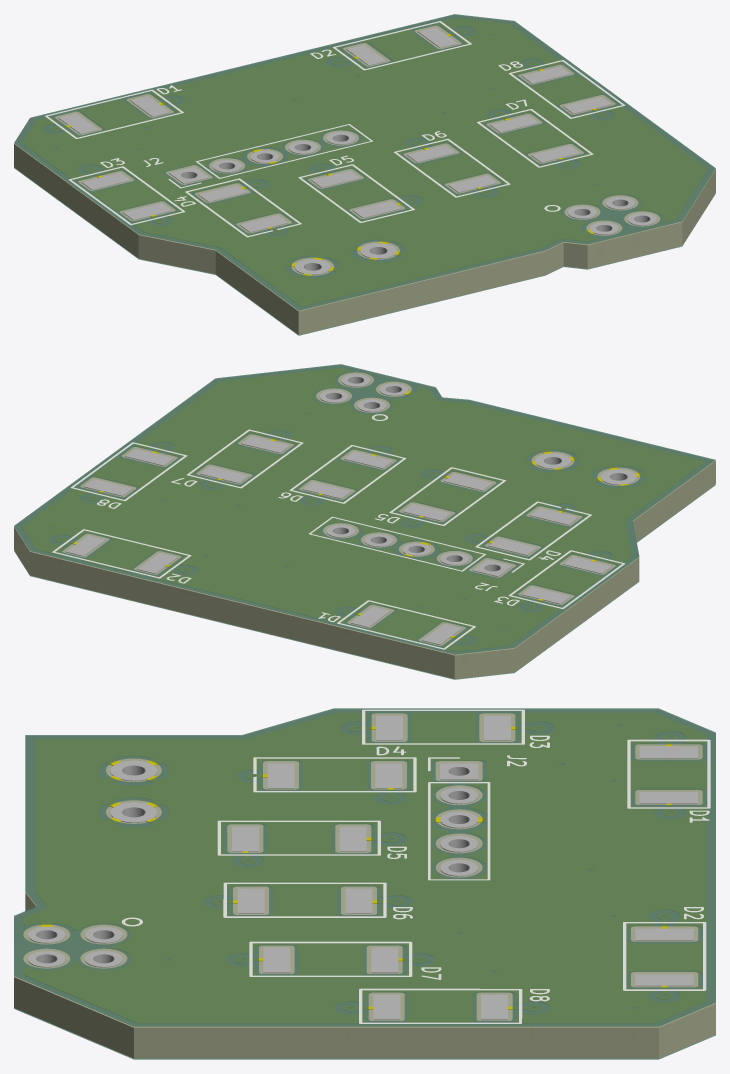
The model's file is mad-cat-backpack.glb.
The picture shows the model from 3 angles, top to bottom: view 1: azimuth 30°, elevation 25°; view 2: azimuth 150°, elevation 25°; view 3: azimuth 270°, elevation 25°; orthographic projection. The views are drawn at different scales.
Visible parts, largest first — view 1: =>[0:1:1:7], =>[0:1:1:2], =>[0:1:1:9], =>[0:1:1:5]; view 2: =>[0:1:1:7], =>[0:1:1:2], =>[0:1:1:9], =>[0:1:1:5]; view 3: =>[0:1:1:7], =>[0:1:1:2], =>[0:1:1:9], =>[0:1:1:5].
Boxes of the visible parts, box(x1,y1,x2,y2) form: =>[0:1:1:7]: box(14, 14, 715, 335); =>[0:1:1:2]: box(23, 18, 707, 306); =>[0:1:1:9]: box(14, 15, 715, 334); =>[0:1:1:5]: box(45, 21, 625, 237); =>[0:1:1:7]: box(14, 364, 715, 679); =>[0:1:1:2]: box(22, 368, 704, 651); =>[0:1:1:9]: box(14, 365, 715, 678); =>[0:1:1:5]: box(52, 414, 625, 649); =>[0:1:1:7]: box(14, 708, 715, 1059); =>[0:1:1:2]: box(24, 713, 705, 1022); =>[0:1:1:9]: box(14, 710, 715, 1058); =>[0:1:1:5]: box(122, 709, 710, 1023).
Bounding box in the file's own units: 0.0335 × 0.00166 × 0.0312.
Materials: 4 (4 with a texture image).
